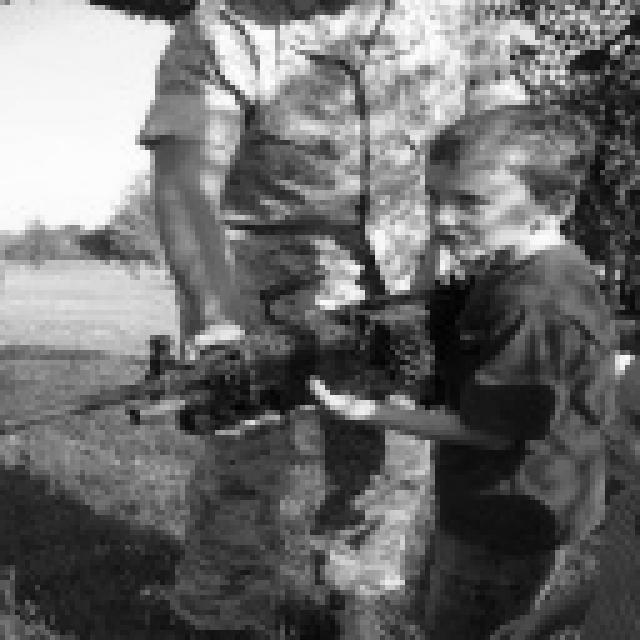Rifle: (0, 260, 495, 474)
